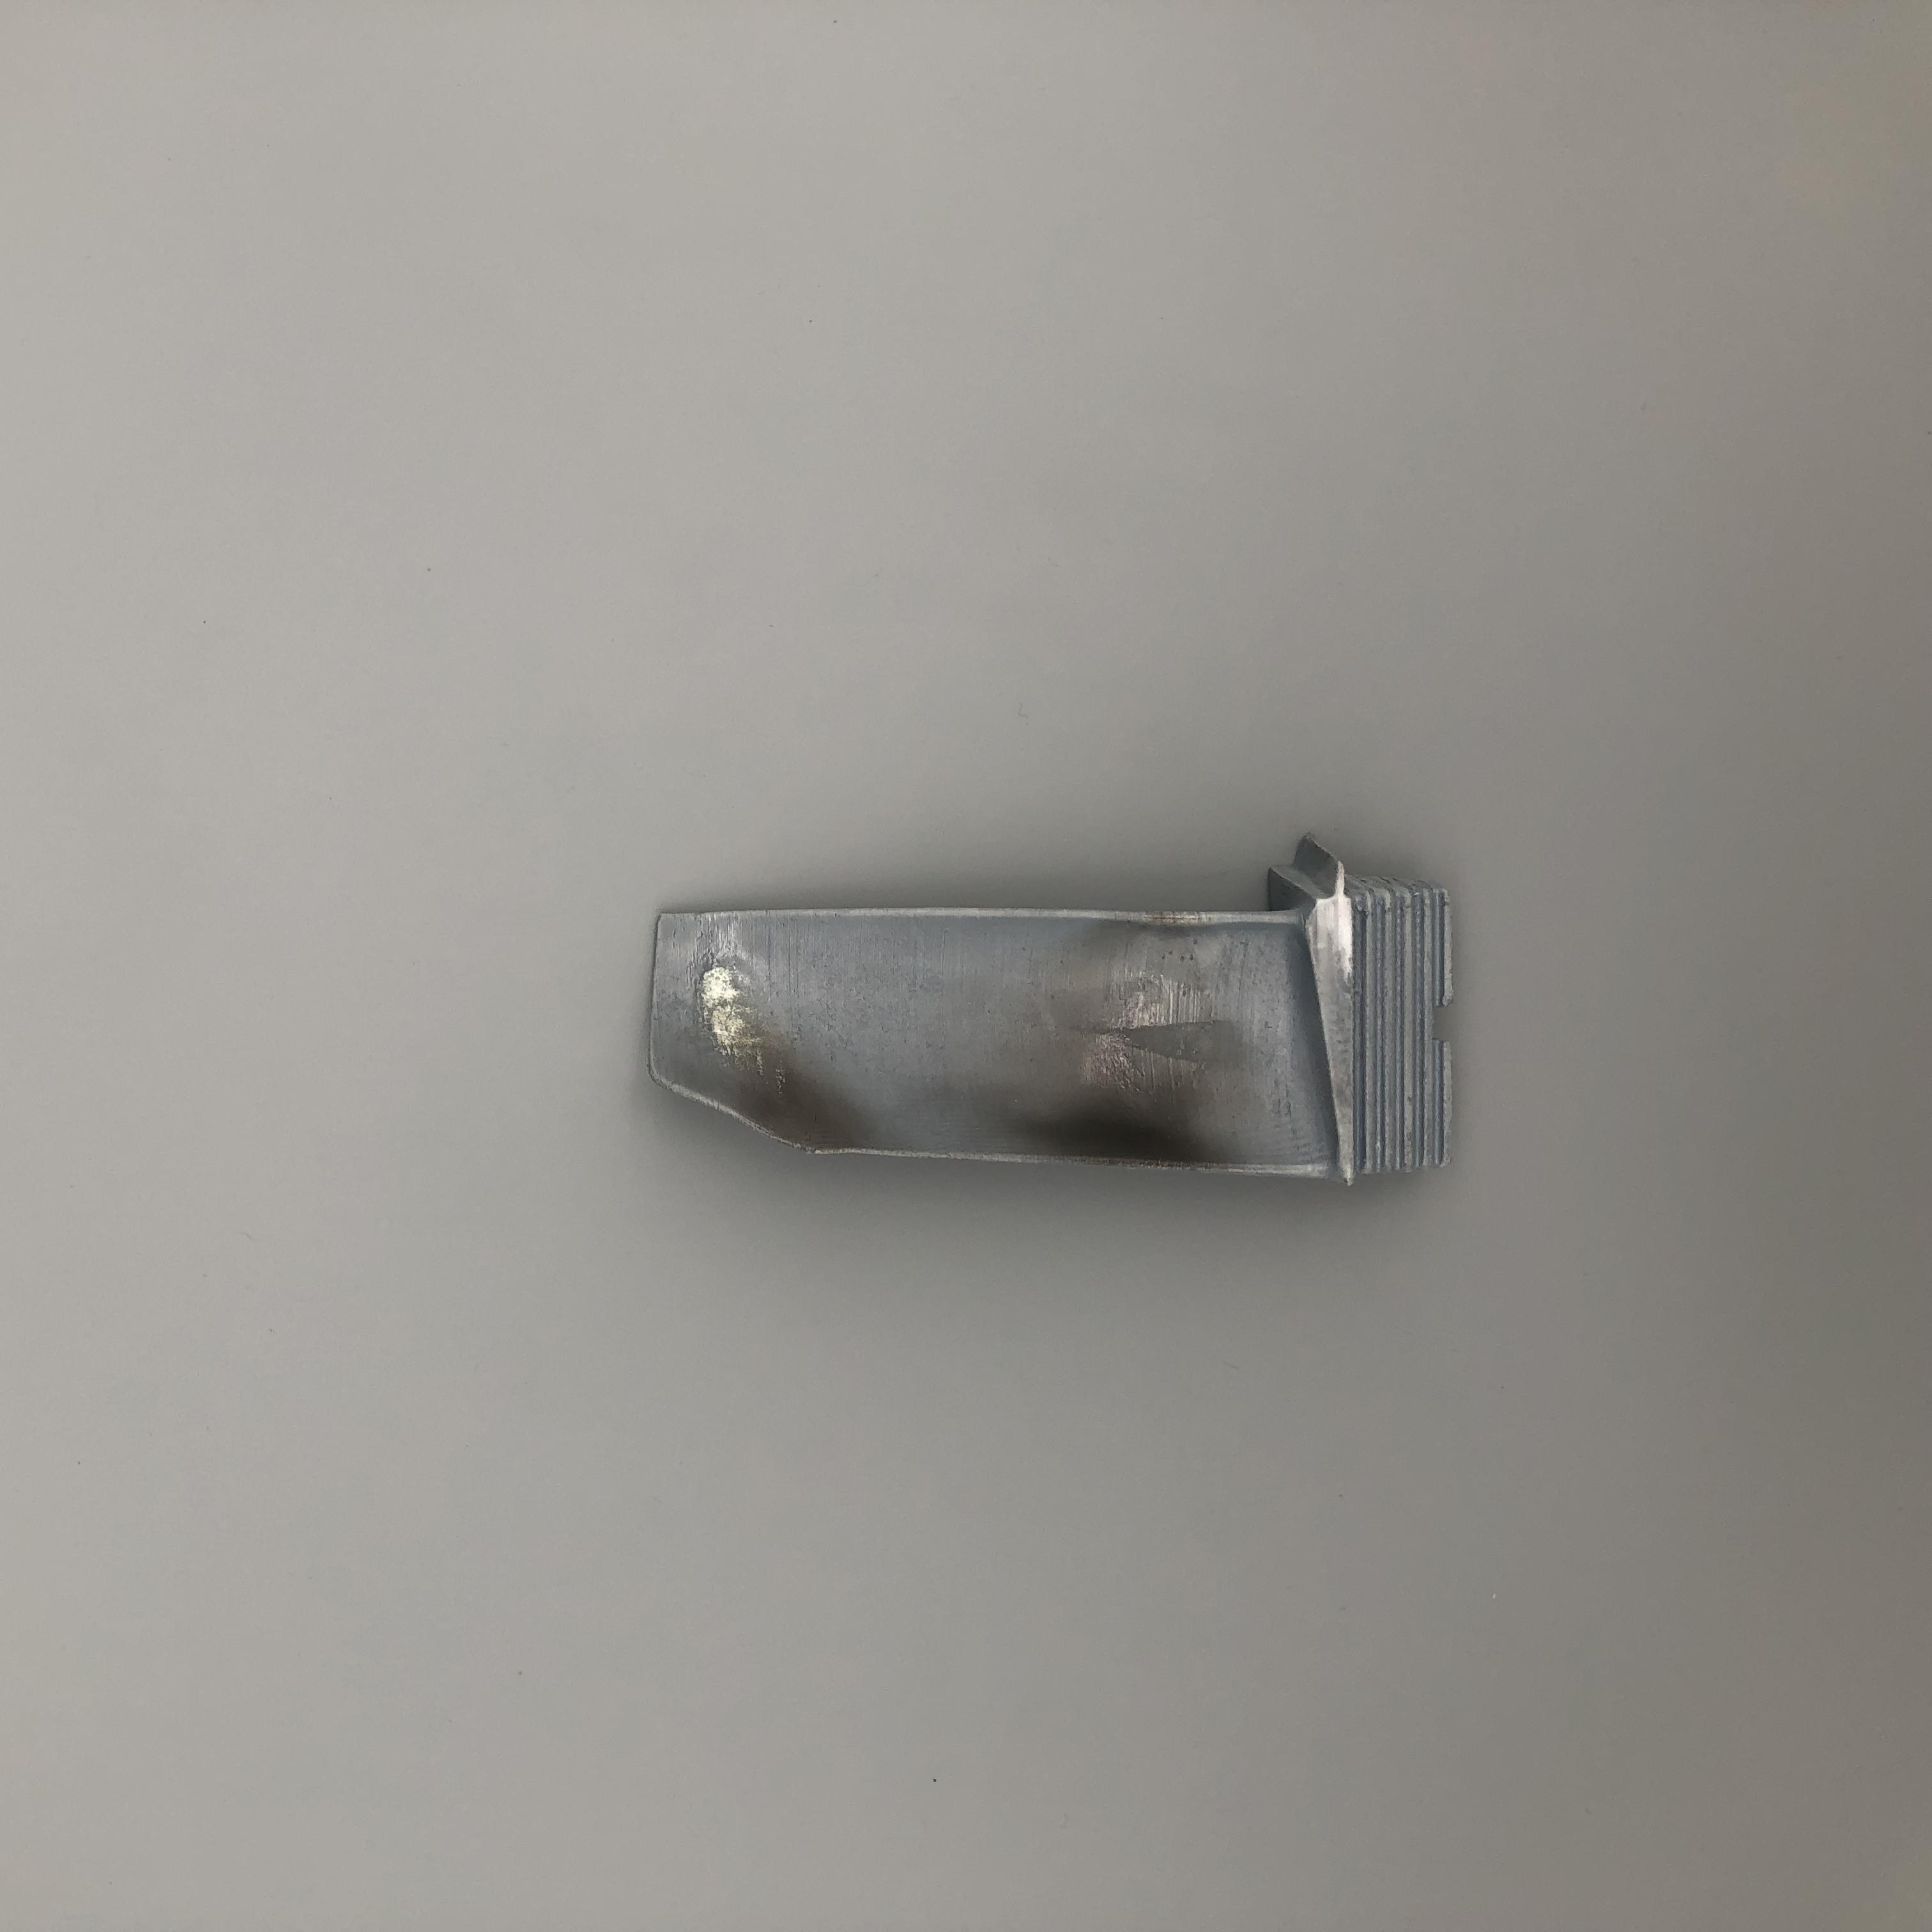ablation: (1067, 1017, 1242, 1164), (722, 1024, 885, 1132)
